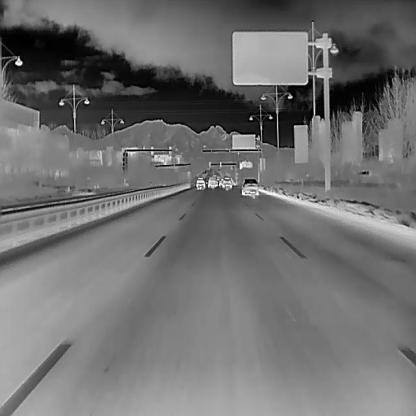car: (241, 177, 258, 195), (195, 176, 206, 191), (222, 176, 232, 190), (208, 176, 218, 188)
